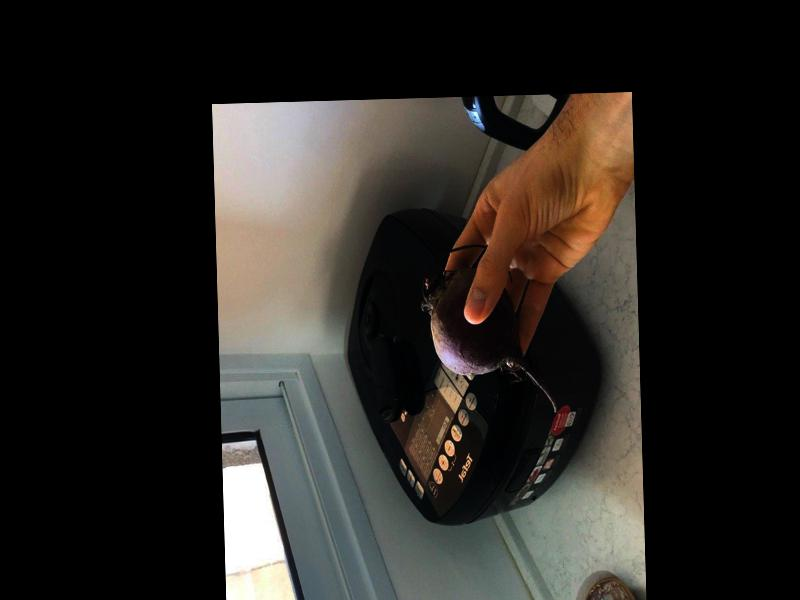Beet: (419, 244, 559, 416)
